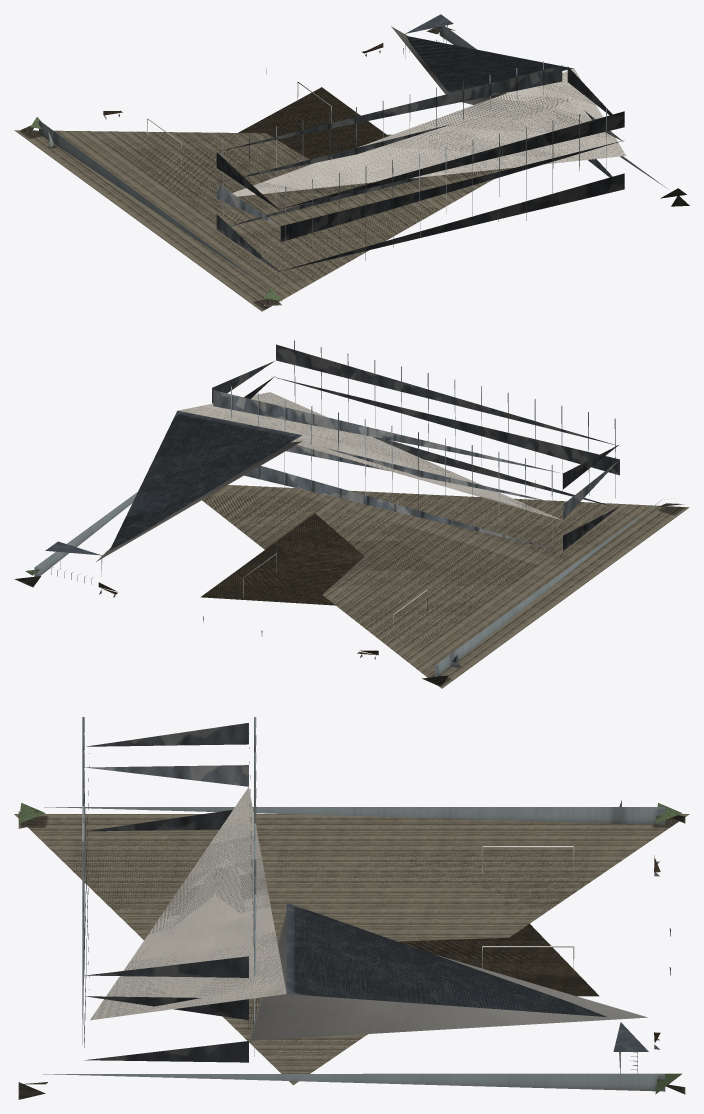
File: school_001.lod2.obj
The picture shows the model from 3 angles, top to bottom: view 1: azimuth 30°, elevation 25°; view 2: azimuth 150°, elevation 25°; view 3: azimuth 270°, elevation 25°; orthographic projection. The views are drawn at different scales.
Parts seen in each view (by area): view 1: school_001; view 2: school_001; view 3: school_001.
Part boxes in pixels (x1,y1,x2,y2): school_001: [14, 14, 689, 311]; school_001: [14, 340, 689, 688]; school_001: [14, 717, 689, 1099].
Bounding box in the file's own units: 51.8 × 11.04 × 51.8.
1 material, 1 textured.
